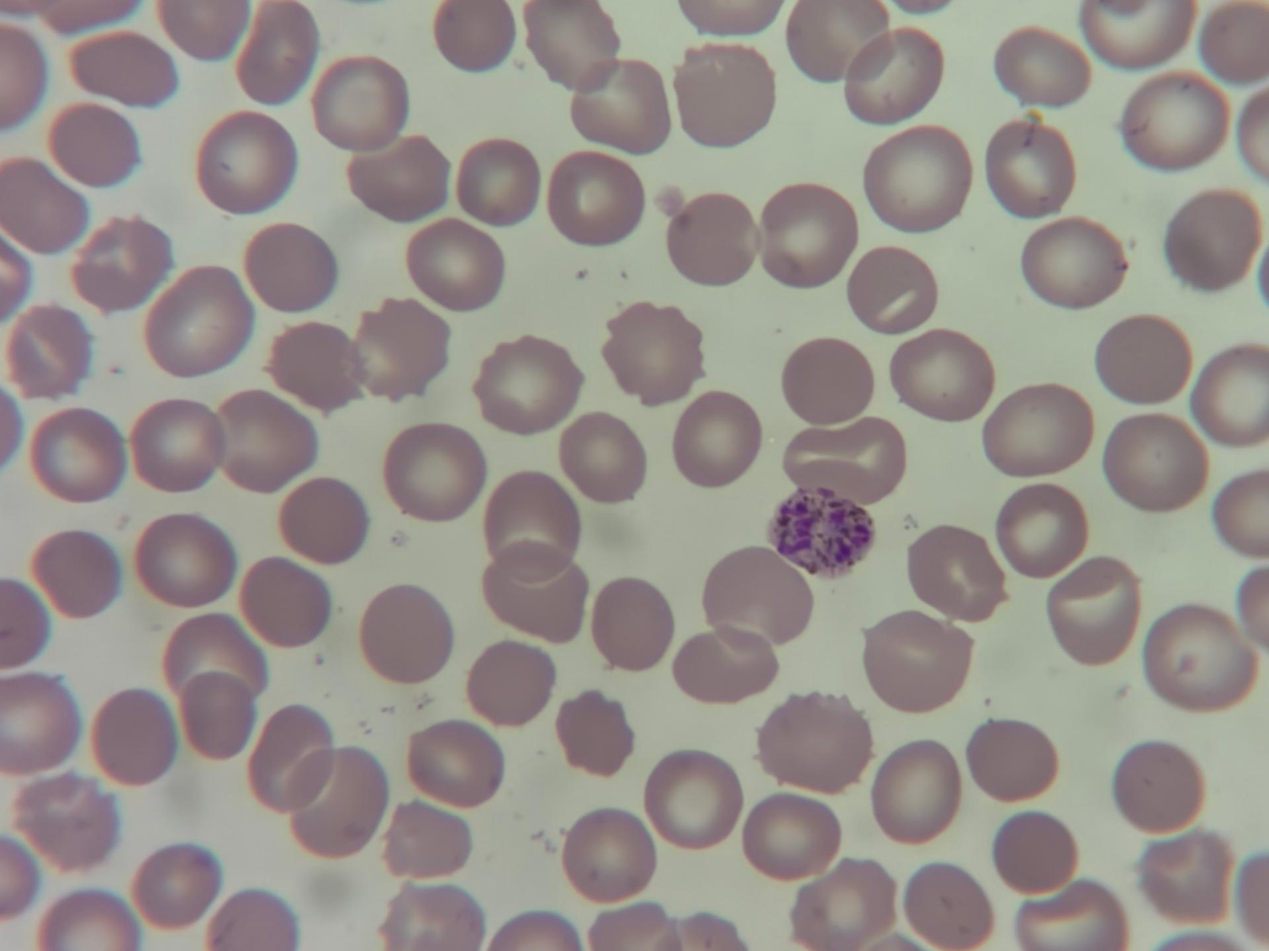Infected: (767, 483, 875, 576)
Uninfected: (753, 689, 870, 796), (1139, 605, 1252, 710), (144, 268, 252, 377), (10, 765, 120, 871), (703, 547, 812, 651), (783, 415, 904, 508), (286, 747, 387, 856), (861, 611, 972, 710), (863, 127, 969, 230), (1119, 71, 1226, 169), (1045, 556, 1141, 664), (196, 112, 298, 213), (481, 547, 590, 641), (673, 46, 774, 147), (1102, 415, 1207, 512), (982, 383, 1091, 476), (601, 302, 702, 402), (353, 298, 452, 399), (789, 856, 894, 951), (247, 705, 338, 814), (906, 523, 1007, 621), (473, 337, 578, 431), (215, 391, 314, 490), (70, 213, 170, 311), (1165, 189, 1262, 290), (843, 26, 942, 124), (568, 57, 668, 154), (758, 185, 855, 285), (482, 469, 580, 567), (359, 586, 457, 684), (383, 424, 484, 519), (347, 133, 451, 224), (548, 150, 646, 246), (135, 511, 234, 606), (30, 407, 126, 504), (1095, 315, 1196, 407), (164, 611, 263, 704), (889, 329, 991, 419), (643, 751, 739, 846), (869, 744, 960, 843), (130, 398, 225, 492), (666, 192, 761, 286), (1112, 742, 1206, 837), (560, 810, 656, 903), (1020, 219, 1122, 306), (239, 554, 334, 647), (1136, 829, 1231, 922), (243, 221, 339, 313), (406, 217, 502, 309), (311, 56, 408, 147), (985, 118, 1076, 215), (0, 157, 89, 255), (266, 321, 361, 412), (405, 721, 502, 810), (30, 529, 122, 622), (276, 477, 370, 568), (91, 688, 178, 786), (236, 5, 322, 104), (995, 483, 1088, 574), (741, 793, 837, 880), (673, 391, 760, 485), (68, 35, 181, 107), (781, 338, 873, 426), (966, 717, 1058, 805), (465, 640, 557, 728), (7, 305, 93, 399), (523, 1, 619, 85), (379, 798, 475, 882), (847, 247, 939, 334), (558, 410, 646, 500), (673, 628, 777, 704), (48, 103, 140, 188), (3, 672, 81, 772), (1189, 346, 1269, 443), (904, 863, 995, 948), (1082, 1, 1194, 70), (590, 576, 673, 669), (176, 670, 259, 763), (994, 26, 1089, 106), (456, 139, 543, 226), (787, 1, 882, 80), (1016, 879, 1120, 951), (132, 844, 219, 929), (379, 882, 485, 951), (992, 812, 1079, 894), (555, 688, 634, 773), (434, 1, 516, 72), (38, 890, 135, 950), (204, 889, 297, 950), (1198, 3, 1268, 83), (161, 1, 248, 59), (0, 22, 48, 127), (0, 576, 53, 670), (1211, 469, 1269, 554)
